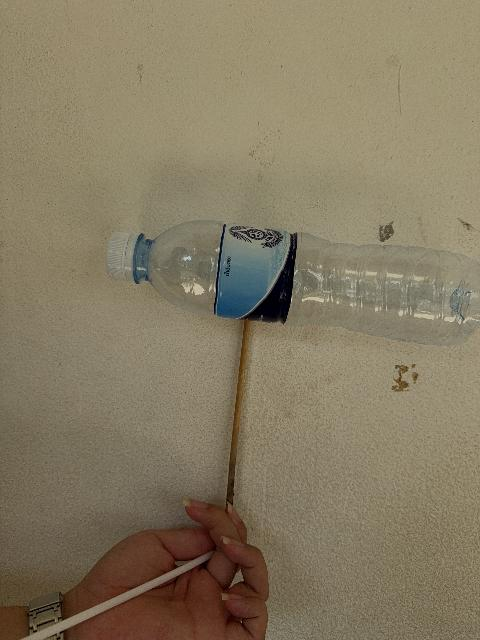bottle: (107, 221, 479, 345)
